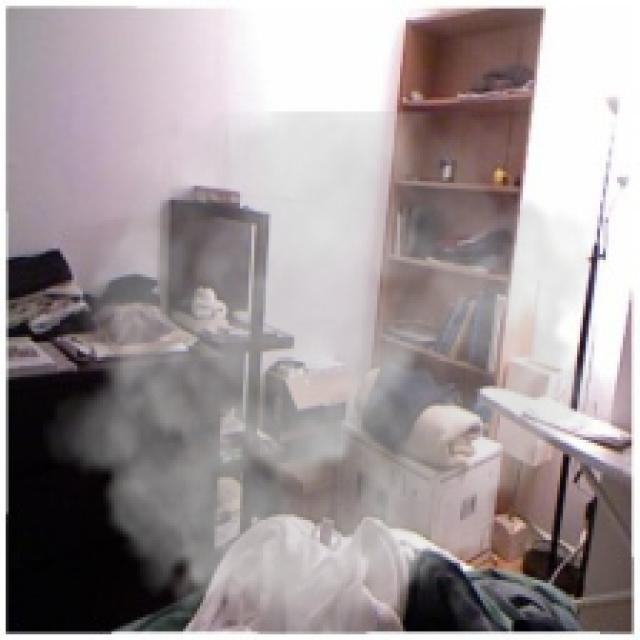smoke: (43, 111, 611, 634)
